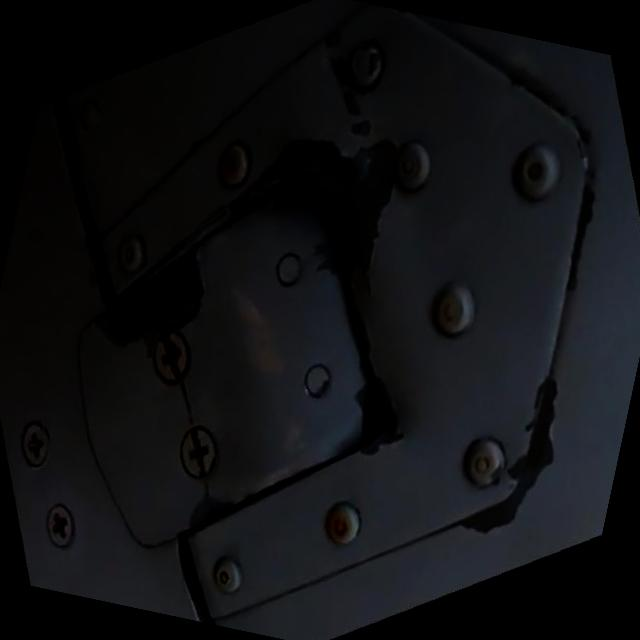crack: (185, 380, 391, 533), (283, 139, 426, 318), (463, 377, 558, 532), (117, 259, 202, 336), (154, 374, 210, 431), (246, 182, 304, 211)
